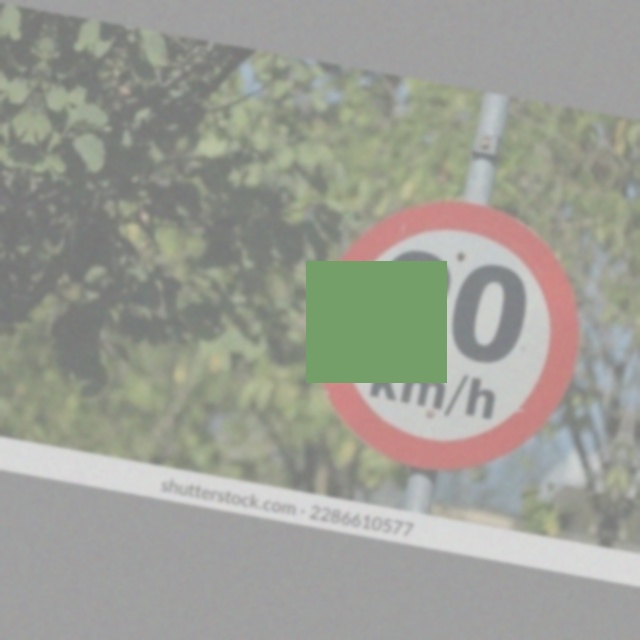Speed_Limit_20: (300, 184, 601, 494)
